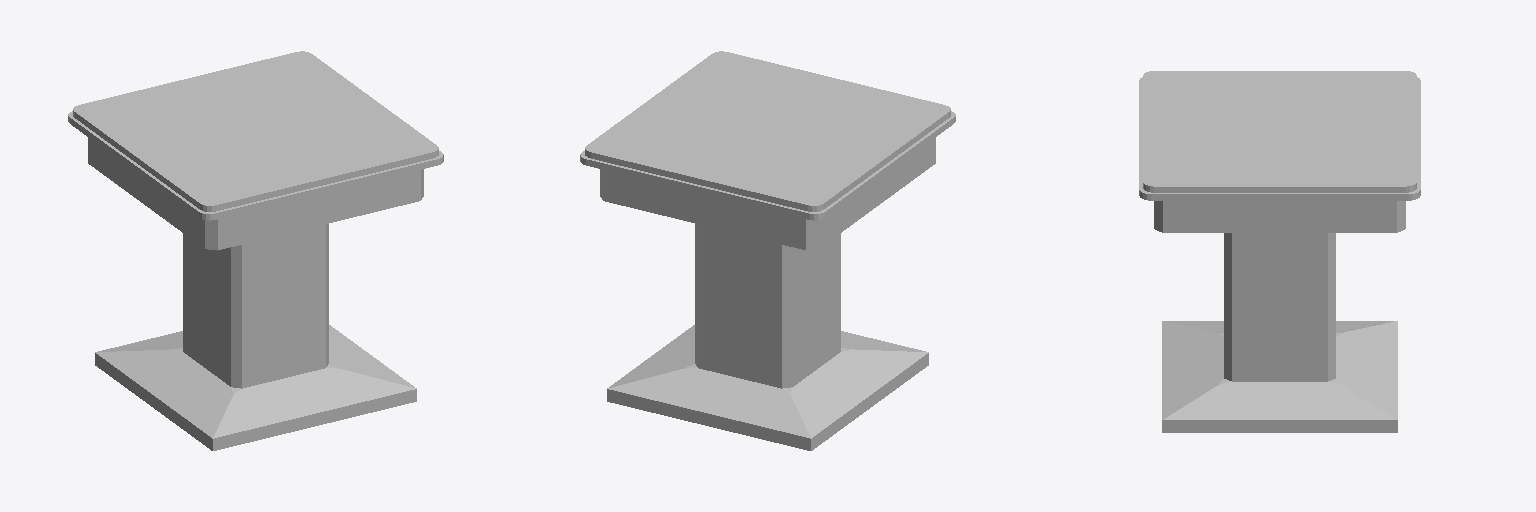
The model's file is Table.obj.
3 renders of one model, left to right at view 1: azimuth 30°, elevation 25°; view 2: azimuth 150°, elevation 25°; view 3: azimuth 270°, elevation 25°, orthographic.
Bounding box in the file's own units: 1 × 0.9997 × 1.